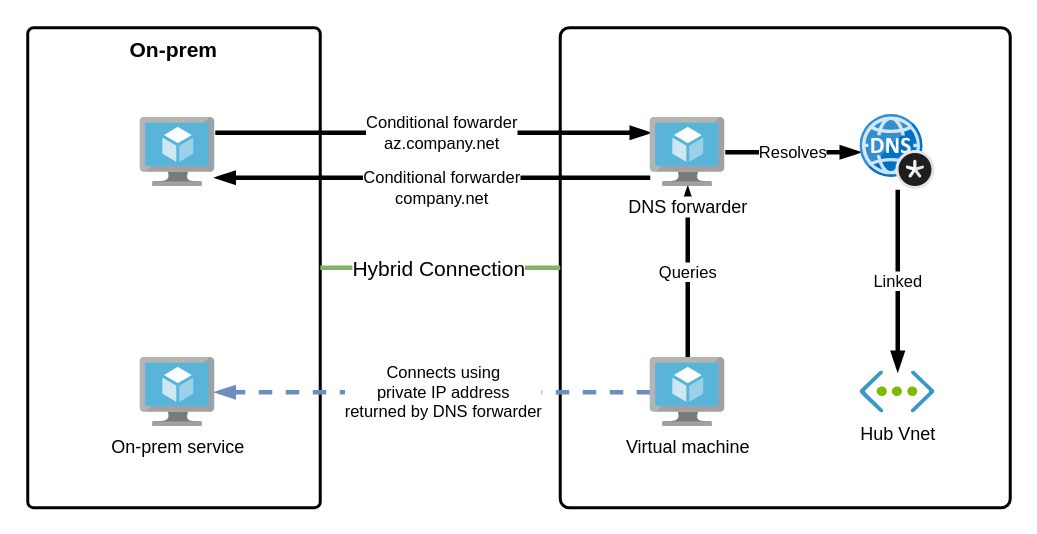
Some shapes in this 1037 by 534 pixel diagram are drawn without their labels. Each missing label, with the box of its shape:
Azure: (558, 26, 1011, 508)
Environment Private Zone: (860, 114, 934, 189)
On-prem DNS resolver: (140, 117, 214, 186)
